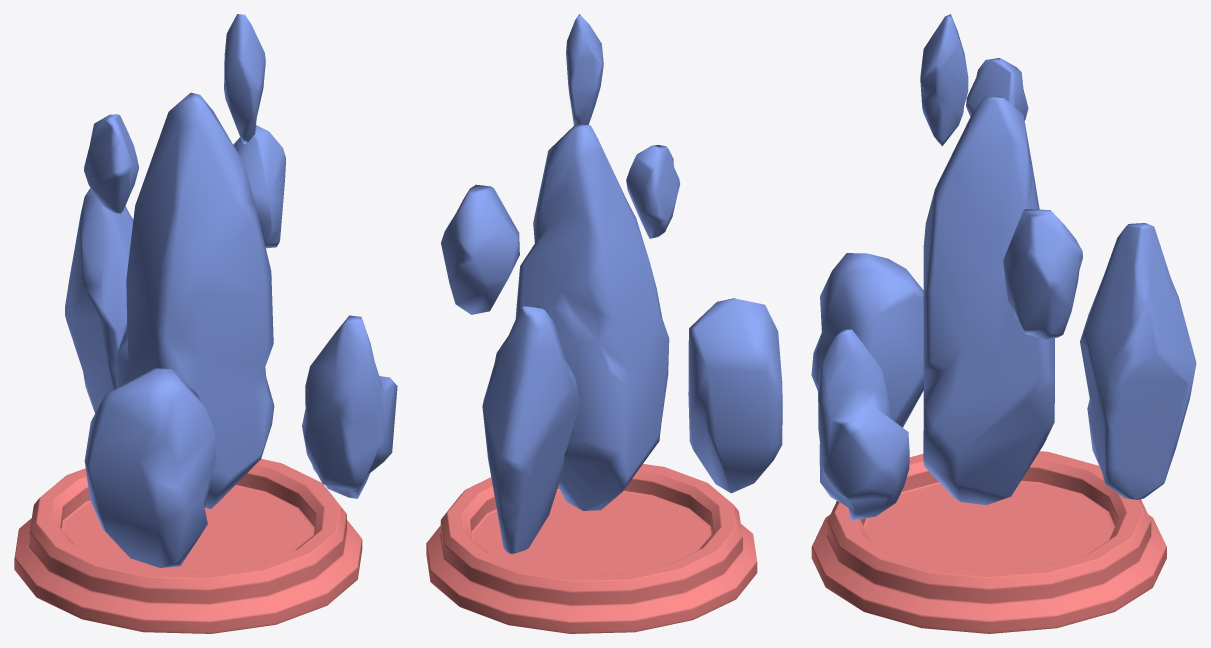
3 views of the same model, side by side, from view 1: azimuth 30°, elevation 25°; view 2: azimuth 150°, elevation 25°; view 3: azimuth 270°, elevation 25° (orthographic). The views are drawn at different scales.
Visible parts, largest first — view 1: crystal_a1_7, PolyMesh3D_4; view 2: crystal_a1_7, PolyMesh3D_4; view 3: crystal_a1_7, PolyMesh3D_4.
Boxes of the visible parts, x1,y1,x2,y2 form: crystal_a1_7: [65, 14, 397, 567]; PolyMesh3D_4: [14, 459, 362, 633]; crystal_a1_7: [441, 14, 782, 554]; PolyMesh3D_4: [426, 464, 757, 633]; crystal_a1_7: [811, 14, 1196, 520]; PolyMesh3D_4: [811, 451, 1166, 633].
Size of the model in its own units: 1.15 by 2 by 1.25.
